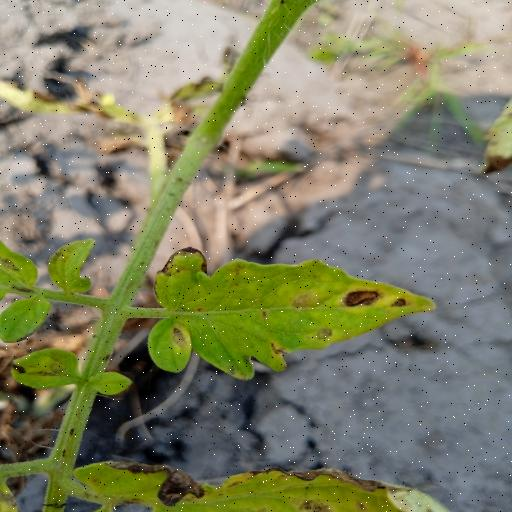Tomato_Brown_Spots: (142, 244, 439, 383)
